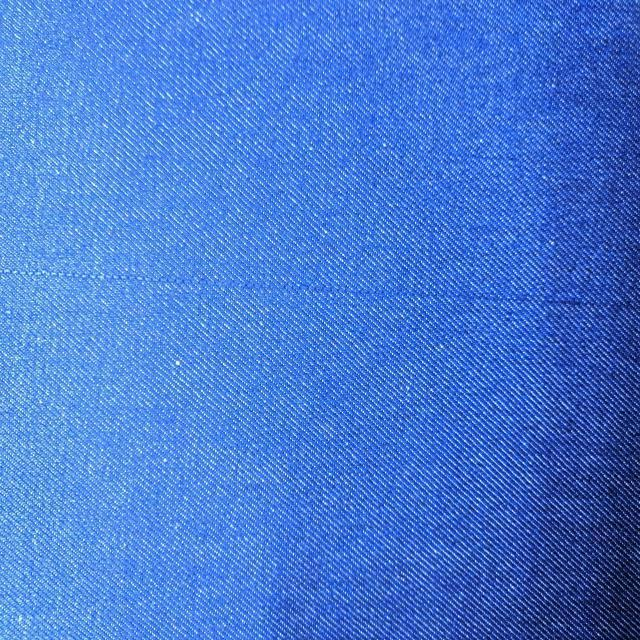Line: (7, 262, 638, 317)
